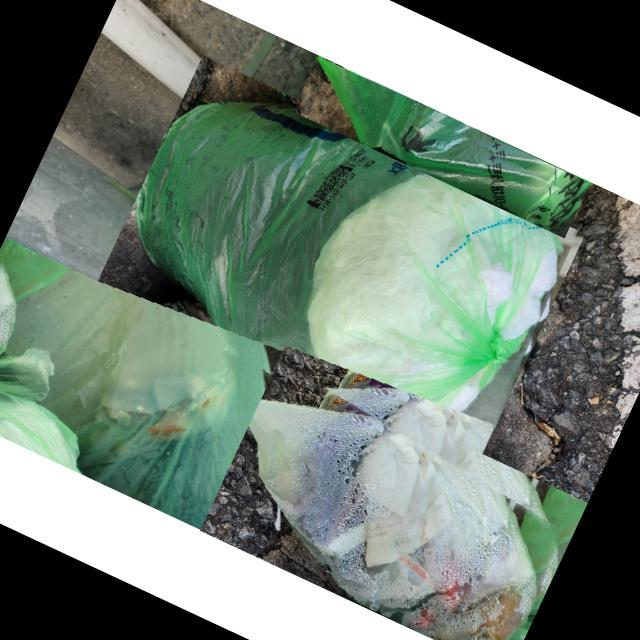general_trashbag: (138, 103, 561, 436), (3, 242, 276, 546), (251, 399, 541, 640), (321, 58, 585, 230)
